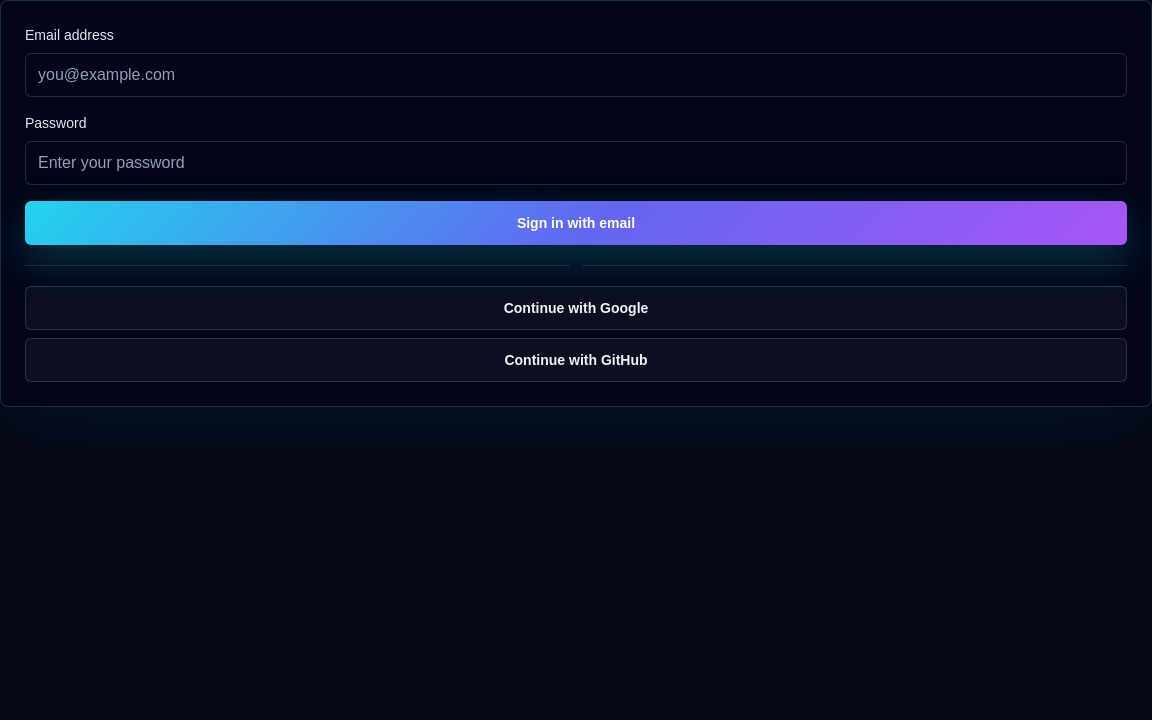
Scenario: DesktopLoginForm › shows Turnstile when desktop email sign-in is risky
Later steps or results of the test are not shown.
Type "friend@example.com" into the field labelled "Email address" at (576, 75), box 25,53 -> 1127,97
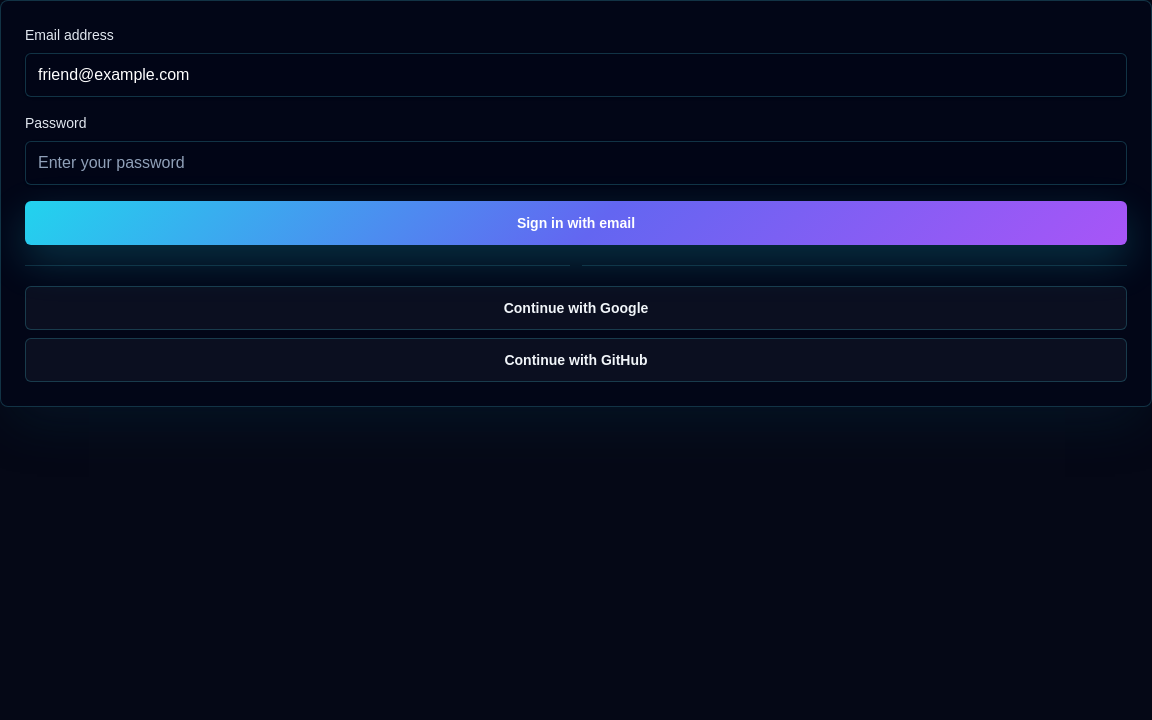
Type "wrong-password" into the password field labelled "Password" at (576, 163), box 25,141 -> 1127,185
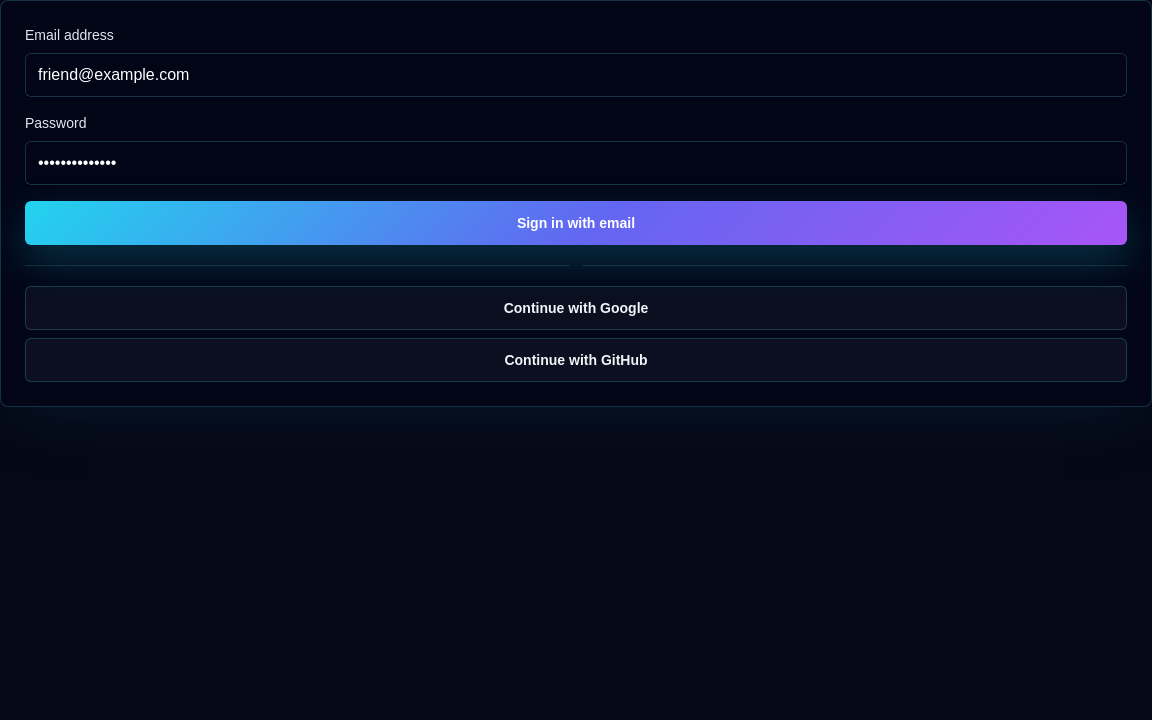
Click the button "Sign in with email" at (576, 223), box 25,201 -> 1127,245
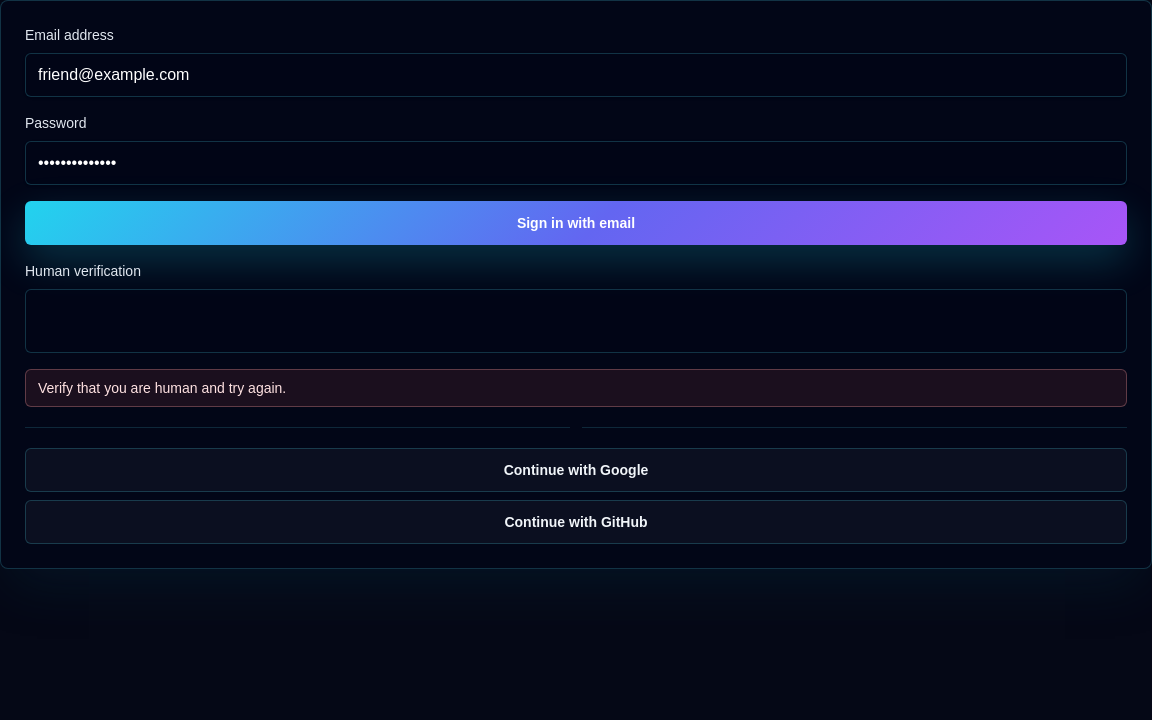
Result: the element with test id "turnstile-placeholder" is shown at 25,289 -> 1127,353
Result: the message reads "Verify that you are human and try again." at 38,380 -> 286,396
